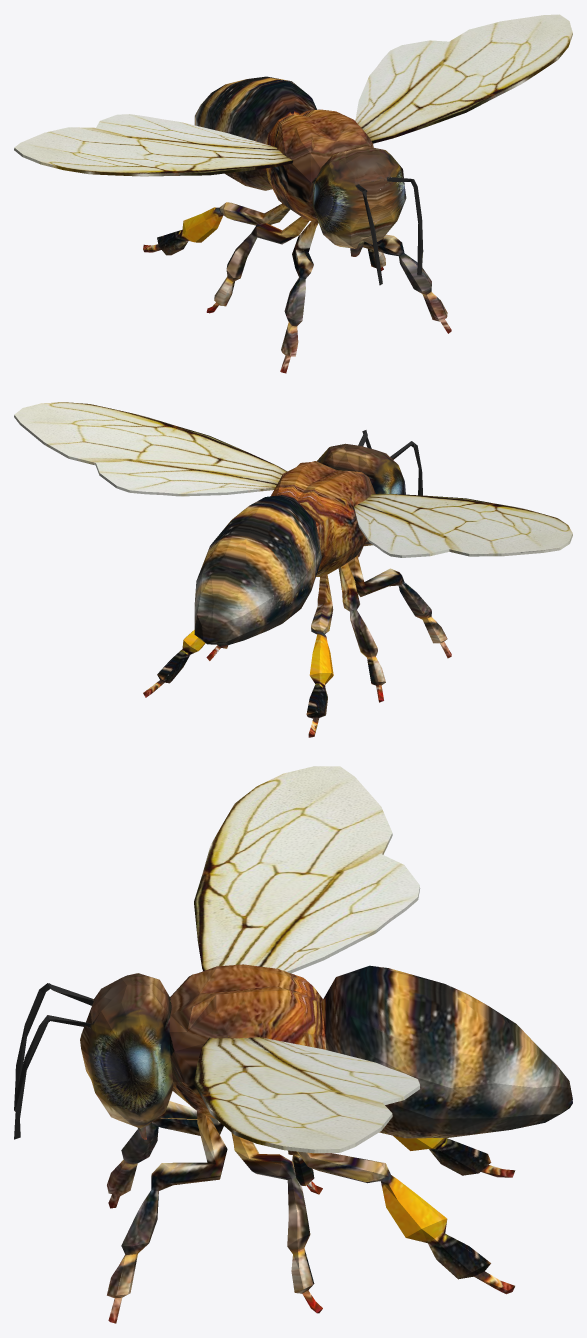
Rendered from Bee.obj.
3 renders of one model, top to bottom at view 1: azimuth 30°, elevation 25°; view 2: azimuth 150°, elevation 25°; view 3: azimuth 270°, elevation 25°, orthographic. The views are drawn at different scales.
Visible parts, largest first — view 1: BeeFBX; view 2: BeeFBX; view 3: BeeFBX.
Part boxes in pixels (x1,y1,x2,y2): BeeFBX: (14,14,572,373); BeeFBX: (14,402,572,737); BeeFBX: (14,766,572,1323).
Size of the model in its own units: 7.44 by 2.79 by 4.58.
Materials: 1 (1 with a texture image).
